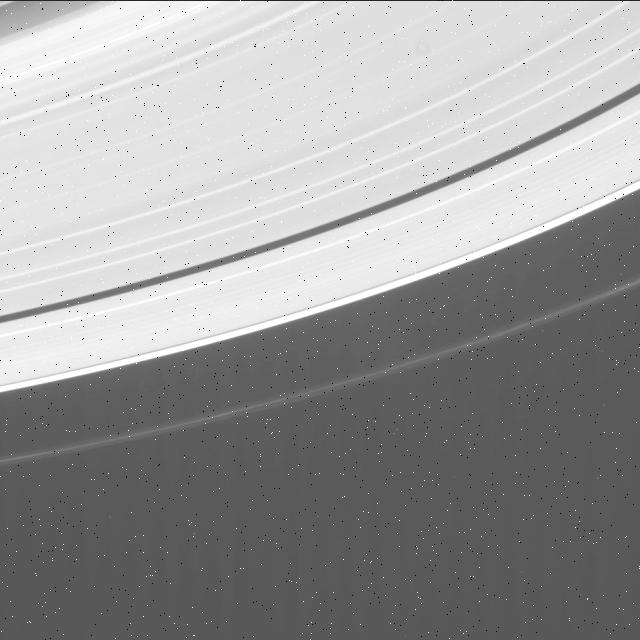Saturn: (0, 0, 640, 467)
